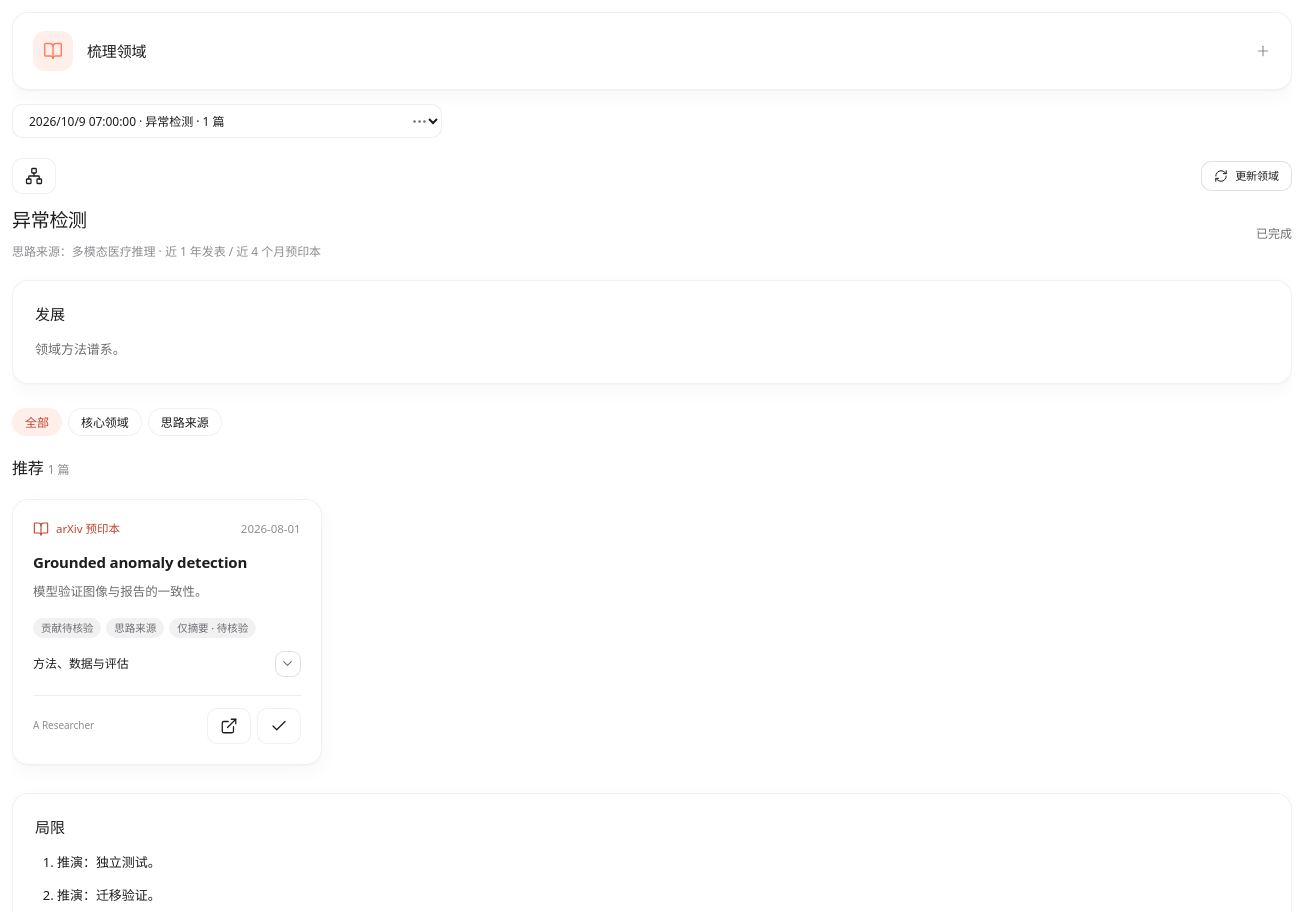
Scenario: research discovery interaction › can attach a paper already in the library to the current research project
Click the button named "加入此项目" at (278, 726), box x1=256 y1=708 x2=300 y2=744
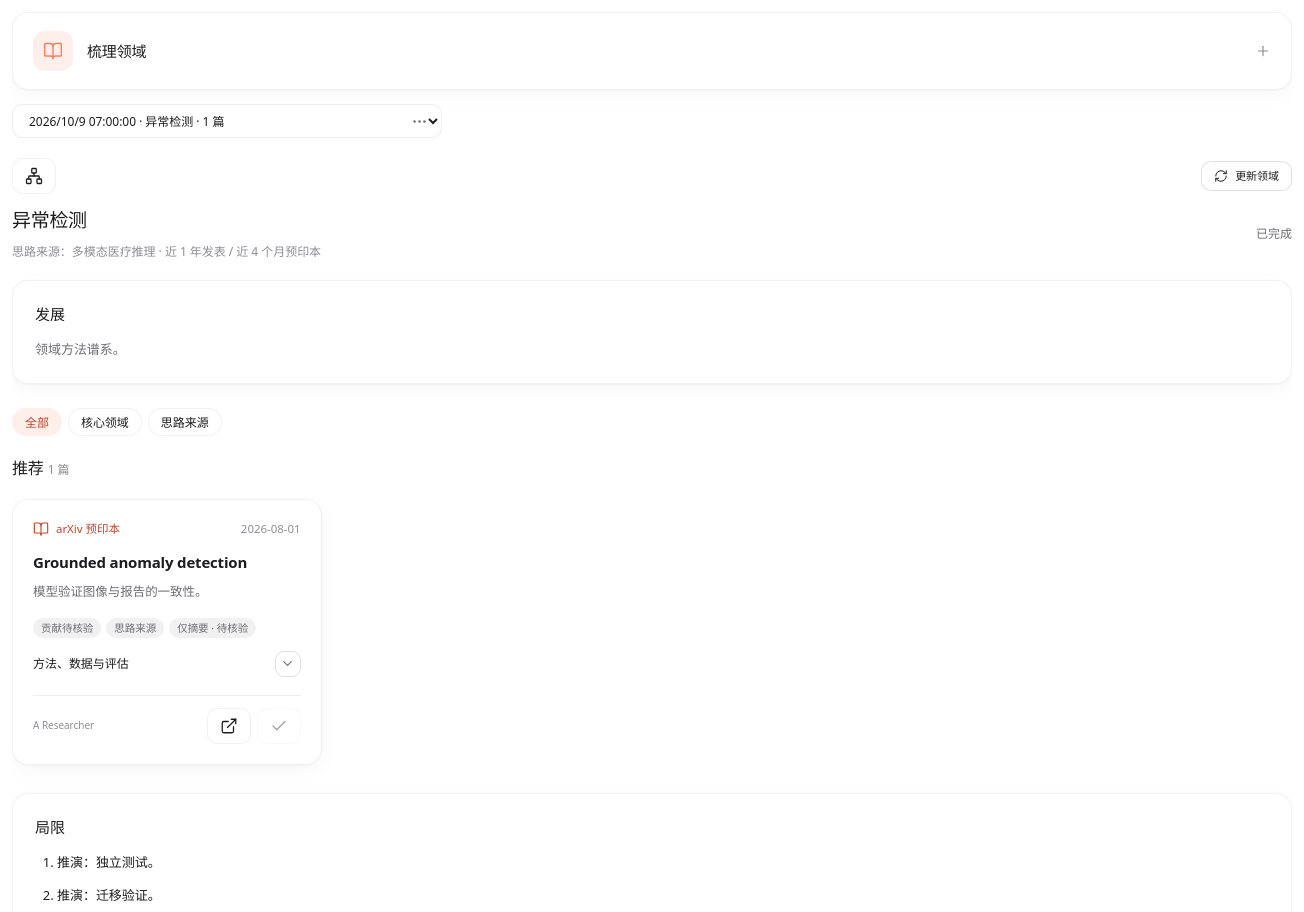
Now the button named "已在项目" is disabled, box x1=256 y1=708 x2=300 y2=744
